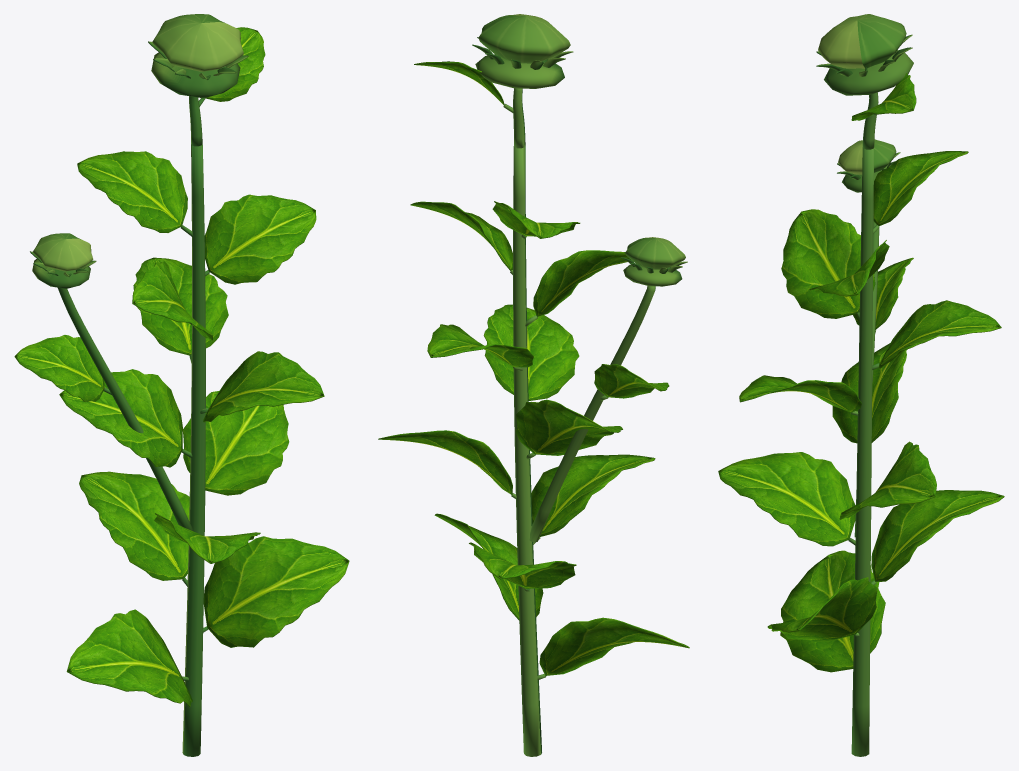
The model's file is NP_Sunflower_BudForming.fbx.
The picture shows the model from 3 angles, left to right: view 1: azimuth 30°, elevation 25°; view 2: azimuth 150°, elevation 25°; view 3: azimuth 270°, elevation 25°; orthographic projection.
Visible parts, largest first — view 1: NP_Sunflower_BudForming; view 2: NP_Sunflower_BudForming; view 3: NP_Sunflower_BudForming.
Part boxes in pixels (x1=…): NP_Sunflower_BudForming: x1=14, y1=14, x2=349, y2=756; NP_Sunflower_BudForming: x1=378, y1=14, x2=689, y2=756; NP_Sunflower_BudForming: x1=718, y1=14, x2=1004, y2=756.
Size of the model in its own units: 49.75 by 123 by 43.4.
